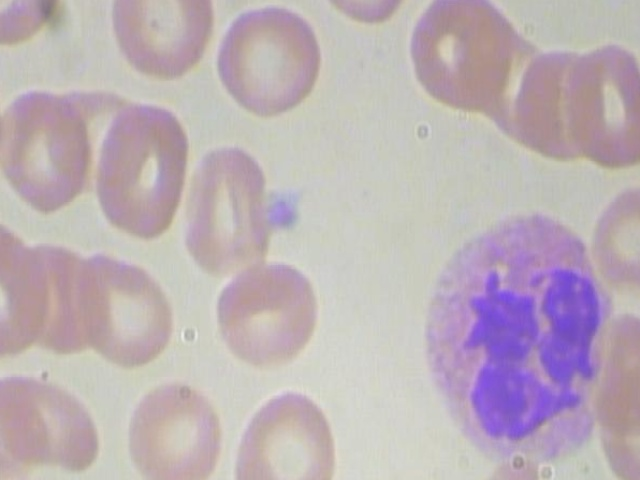Platelets: (262, 181, 301, 237)
RBC: (88, 100, 201, 240), (213, 0, 332, 129), (205, 257, 329, 380), (66, 244, 179, 371), (407, 0, 518, 119), (184, 141, 276, 278), (554, 36, 640, 178), (0, 85, 91, 217), (117, 376, 232, 480), (101, 0, 226, 91), (0, 369, 101, 480), (230, 385, 341, 480), (300, 0, 429, 29), (0, 0, 72, 51)
WBC: (405, 204, 622, 480)
